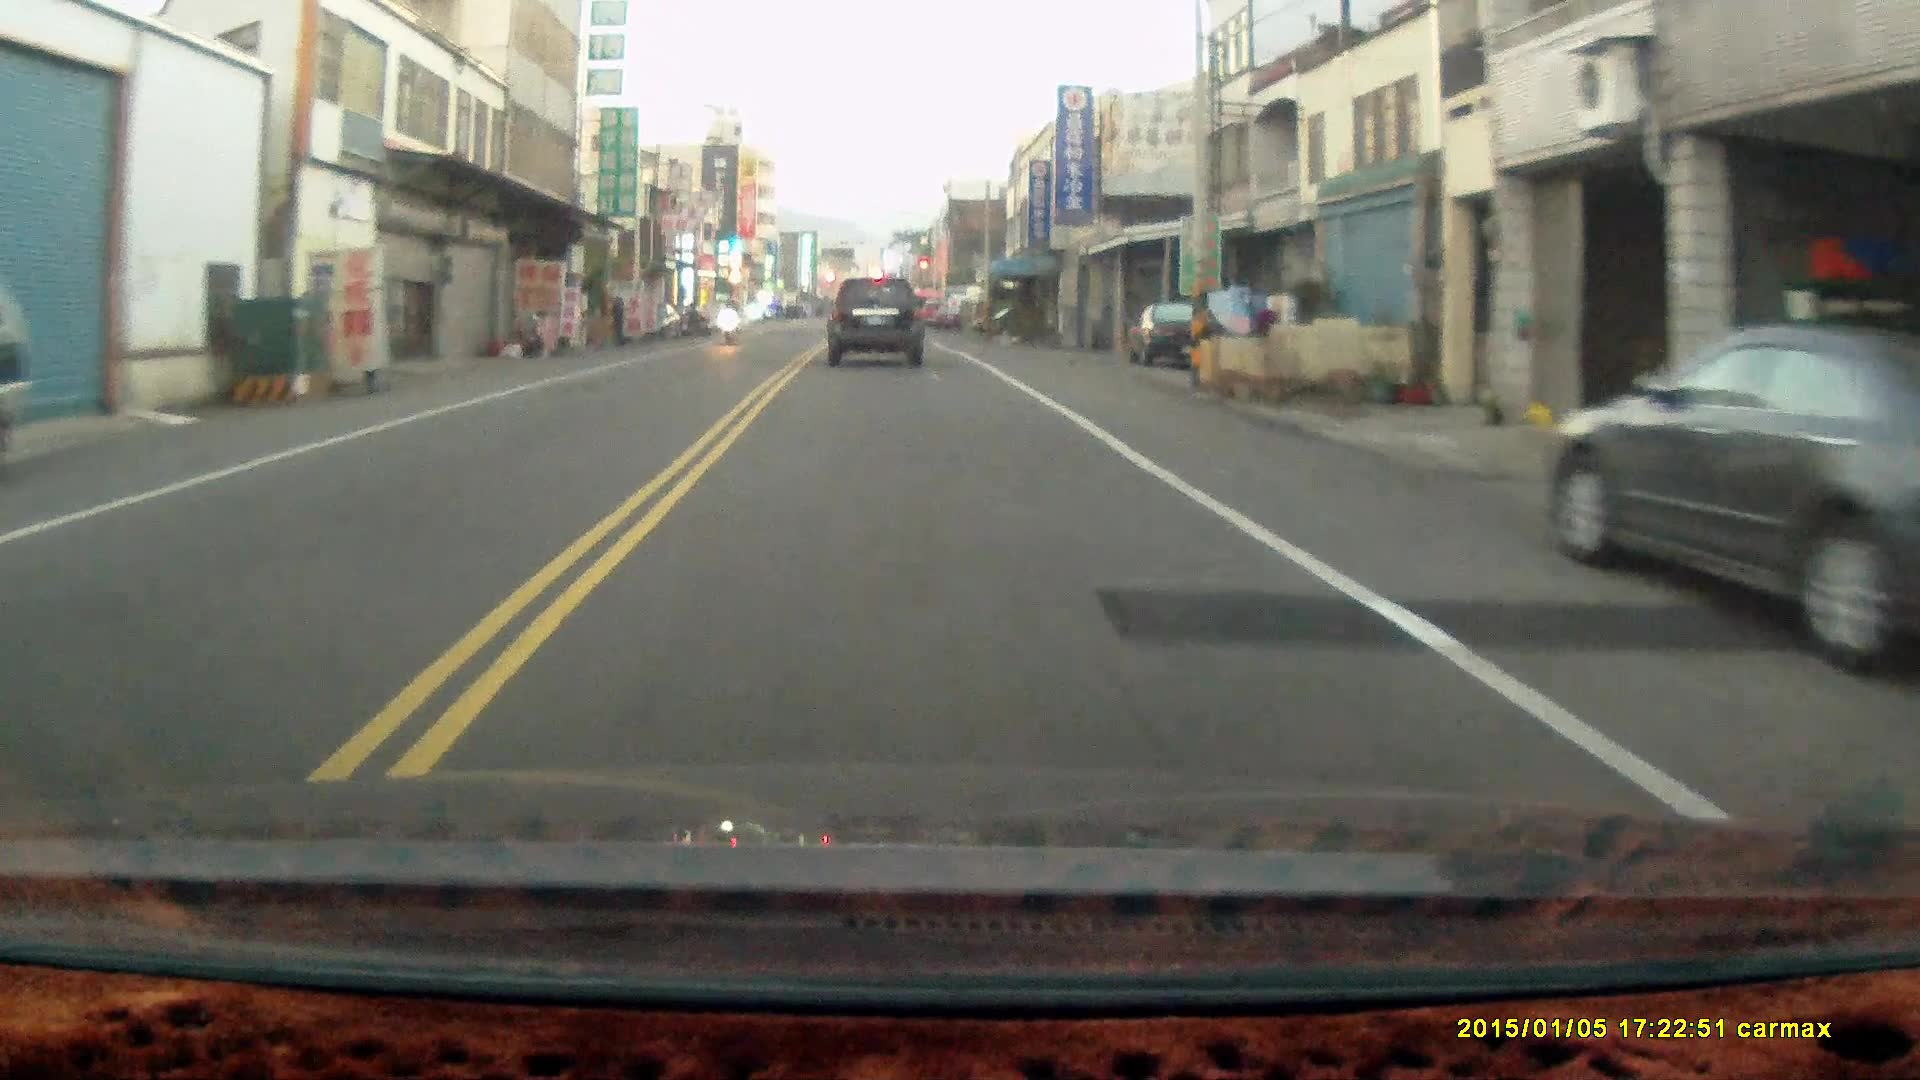pedestrian: (606, 293, 627, 347)
rider: (712, 289, 739, 341)
vehicle: (1542, 320, 1920, 679), (826, 277, 927, 370), (1129, 299, 1232, 372)
